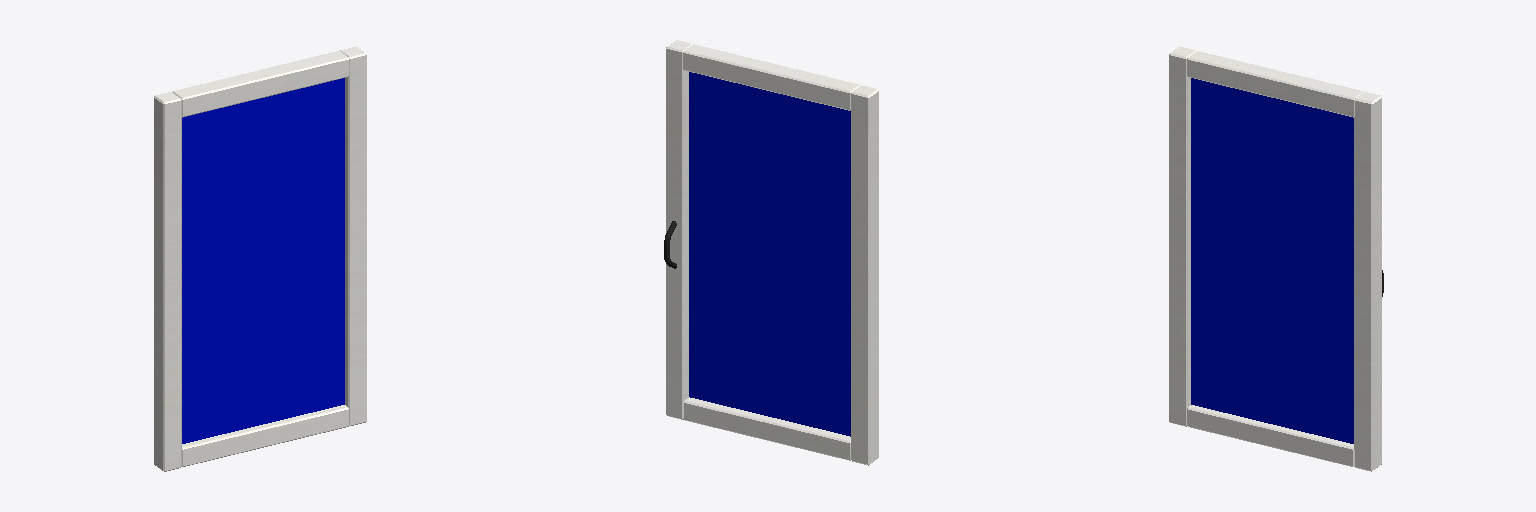
3 views of the same model, side by side, from view 1: azimuth 30°, elevation 25°; view 2: azimuth 150°, elevation 25°; view 3: azimuth 330°, elevation 25° (orthographic).
Parts seen in each view (by area): view 1: Object081, Object082; view 2: Object081, Object082; view 3: Object081, Object082.
Part boxes in pixels (x1,y1,x2,y2): Object081: (182, 78, 344, 443); Object082: (154, 46, 366, 471); Object081: (689, 72, 850, 436); Object082: (666, 40, 878, 465); Object081: (1191, 78, 1353, 443); Object082: (1169, 46, 1381, 471).
Bounding box in the file's own units: 438 × 758 × 72.94.
3 materials, 1 textured.